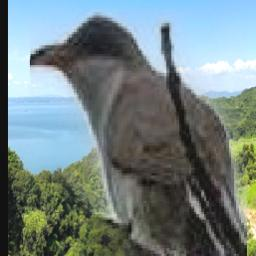Cuckoo: (30, 10, 247, 256)
